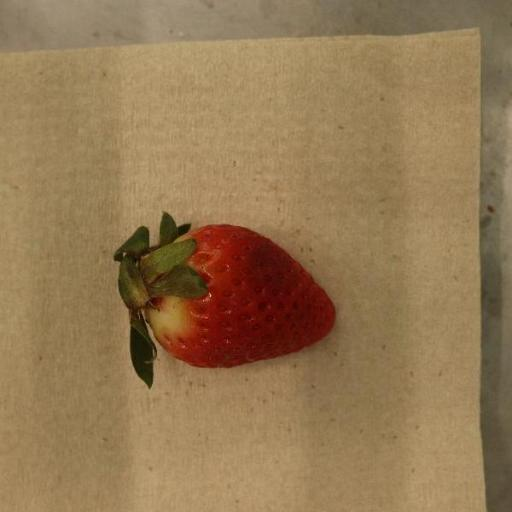Strawberry: (113, 213, 336, 389)
